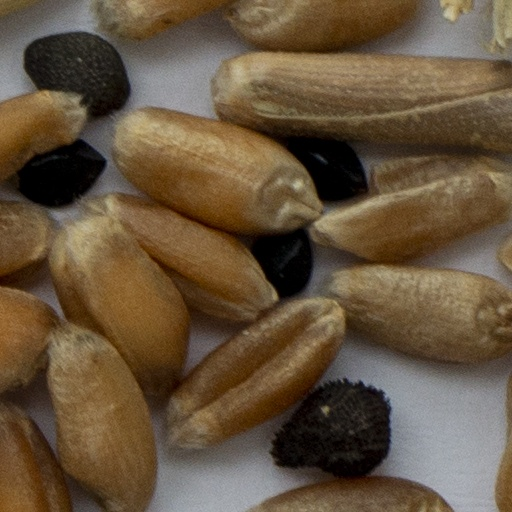Agrostemma-poly: (271, 381, 389, 476)
Convolvulus-poly: (25, 34, 126, 114)
Fallopia-Сonvolvulus-poly: (18, 141, 104, 203), (285, 138, 365, 196), (253, 227, 310, 294)
